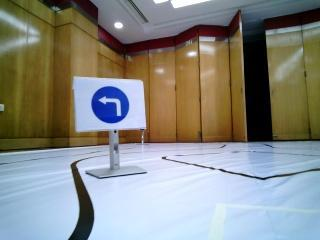left: (74, 77, 146, 130)
